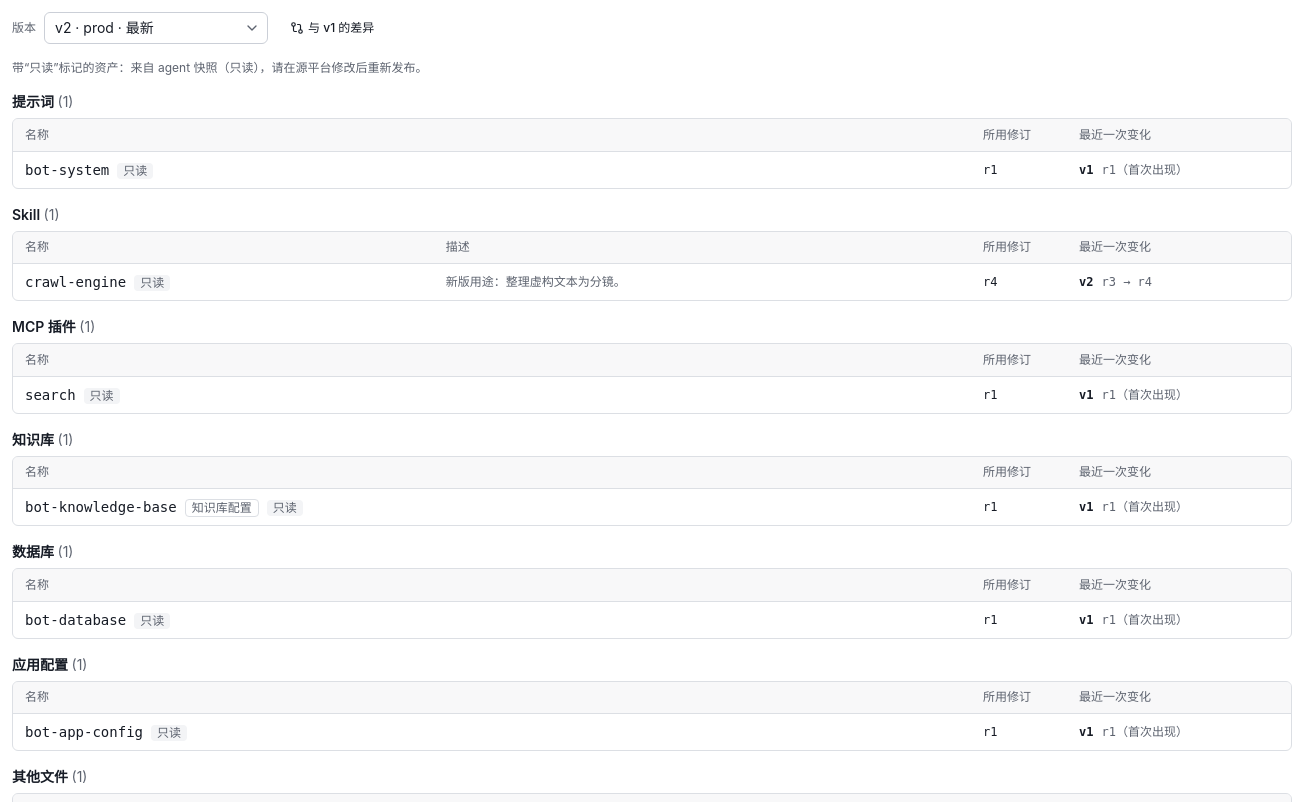
Scenario: AssetsTab › 切换版本后显示该版本绑定的资产
The image size is (1292, 802).
Expected: the element with test id "asset-group-skill" is shown, [12,204,1291,301]
Select "v1" in the dropdown named "选择版本" at (156, 28), box [44,12,268,44]
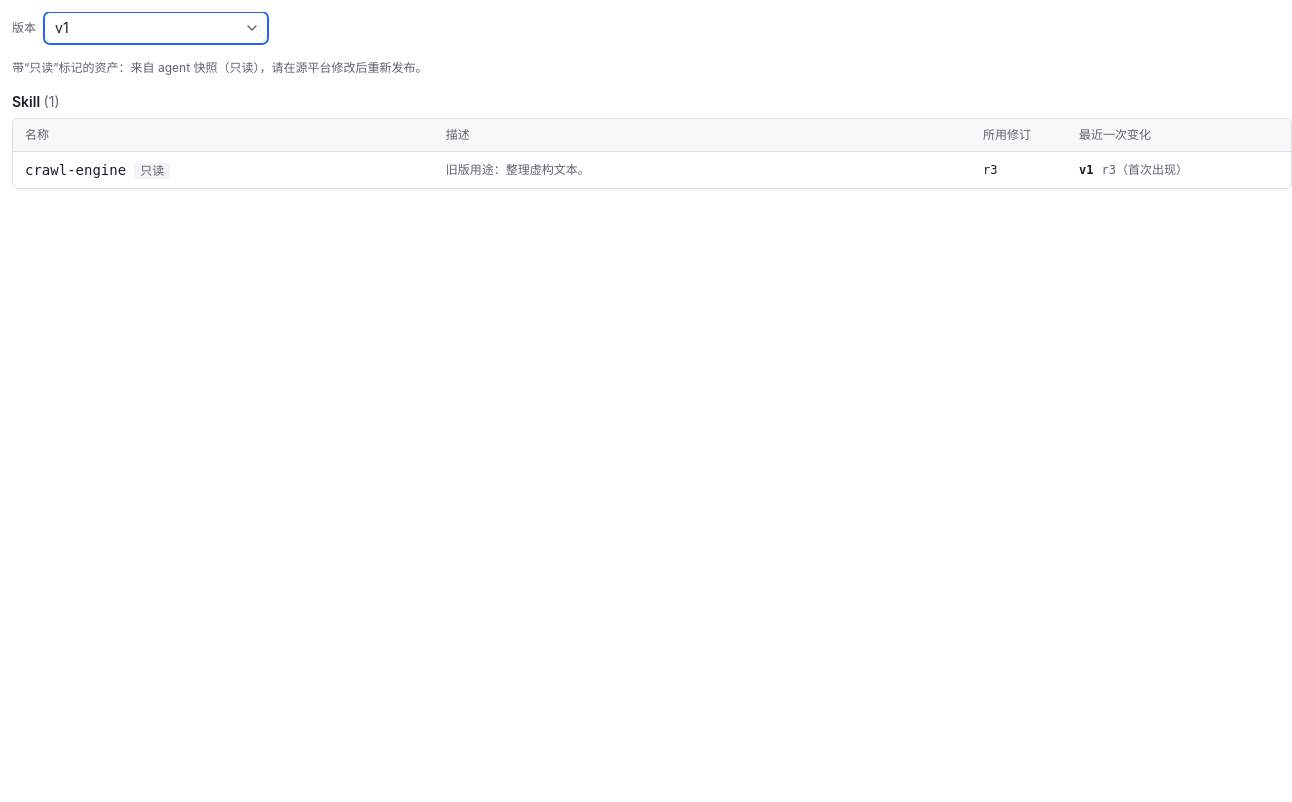
Result: the element with test id "asset-group-mcp" is gone
Result: the text "r3" is shown at [971,151,1067,188]
Result: the text "旧版用途：整理虚构文本。" is shown at [446,162,590,176]
